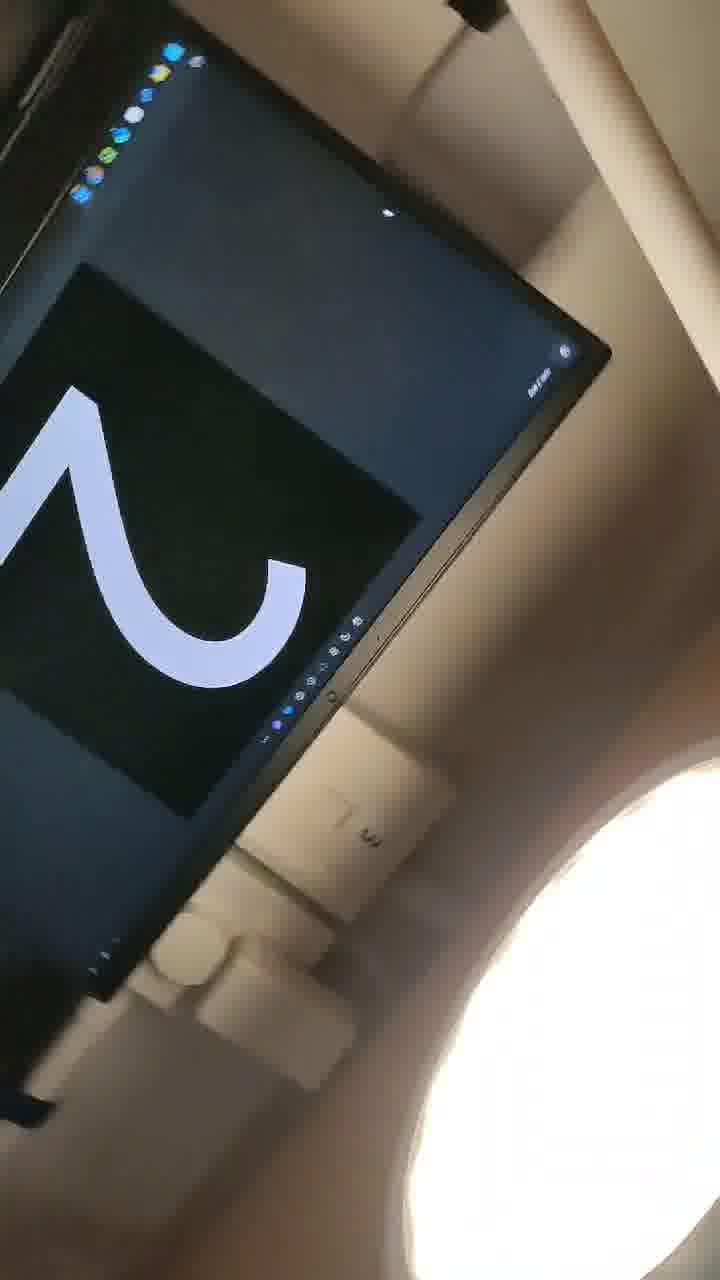two: (1, 302, 347, 762)
